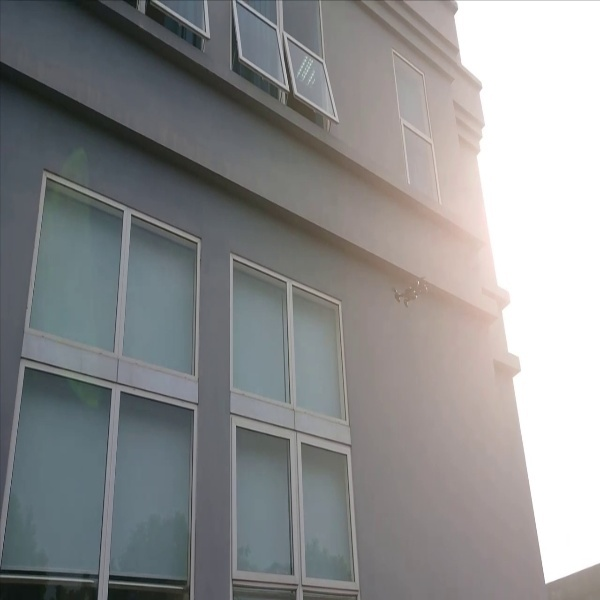drone: (389, 274, 434, 315)
